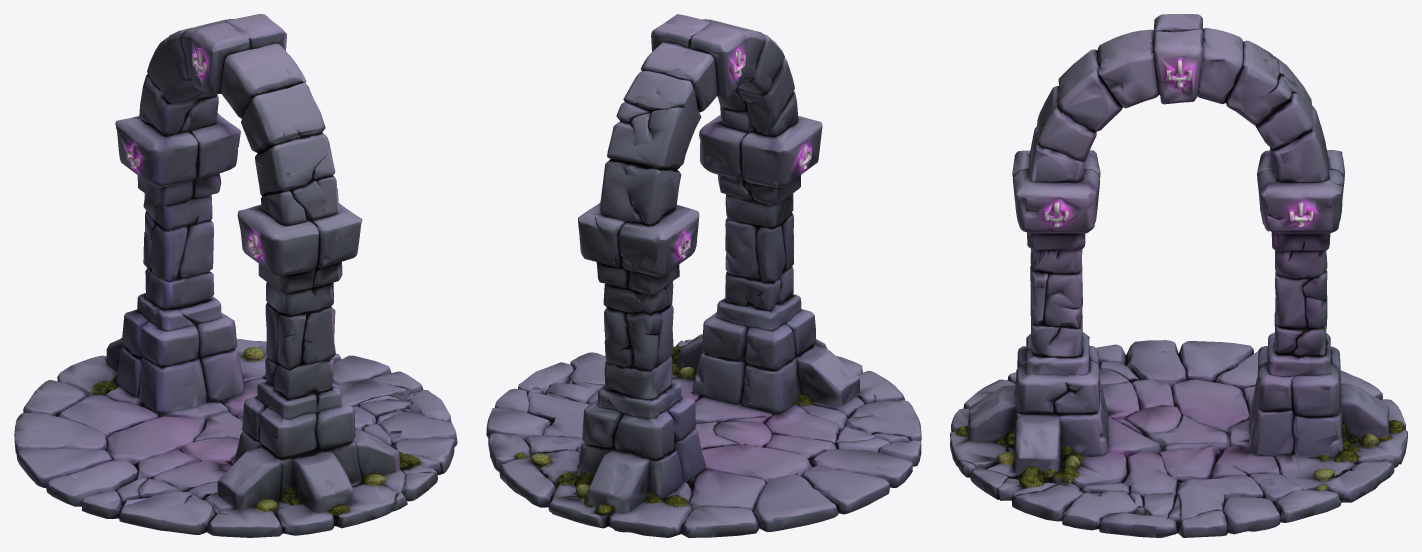
The model's file is ruin_gate.glb.
The picture shows the model from 3 angles, left to right: view 1: azimuth 30°, elevation 25°; view 2: azimuth 150°, elevation 25°; view 3: azimuth 270°, elevation 25°; orthographic projection.
Visible parts, largest first — view 1: tripo_node_96770a5d-056c-40dd-8bdc-b184fb41b525; view 2: tripo_node_96770a5d-056c-40dd-8bdc-b184fb41b525; view 3: tripo_node_96770a5d-056c-40dd-8bdc-b184fb41b525.
Part boxes in pixels (x1,y1,x2,y2): tripo_node_96770a5d-056c-40dd-8bdc-b184fb41b525: (14, 14, 457, 537); tripo_node_96770a5d-056c-40dd-8bdc-b184fb41b525: (486, 14, 921, 537); tripo_node_96770a5d-056c-40dd-8bdc-b184fb41b525: (950, 14, 1407, 537).
Size of the model in its own units: 0.9676 by 0.9998 by 0.9935.
Materials: 1 (1 with a texture image).
